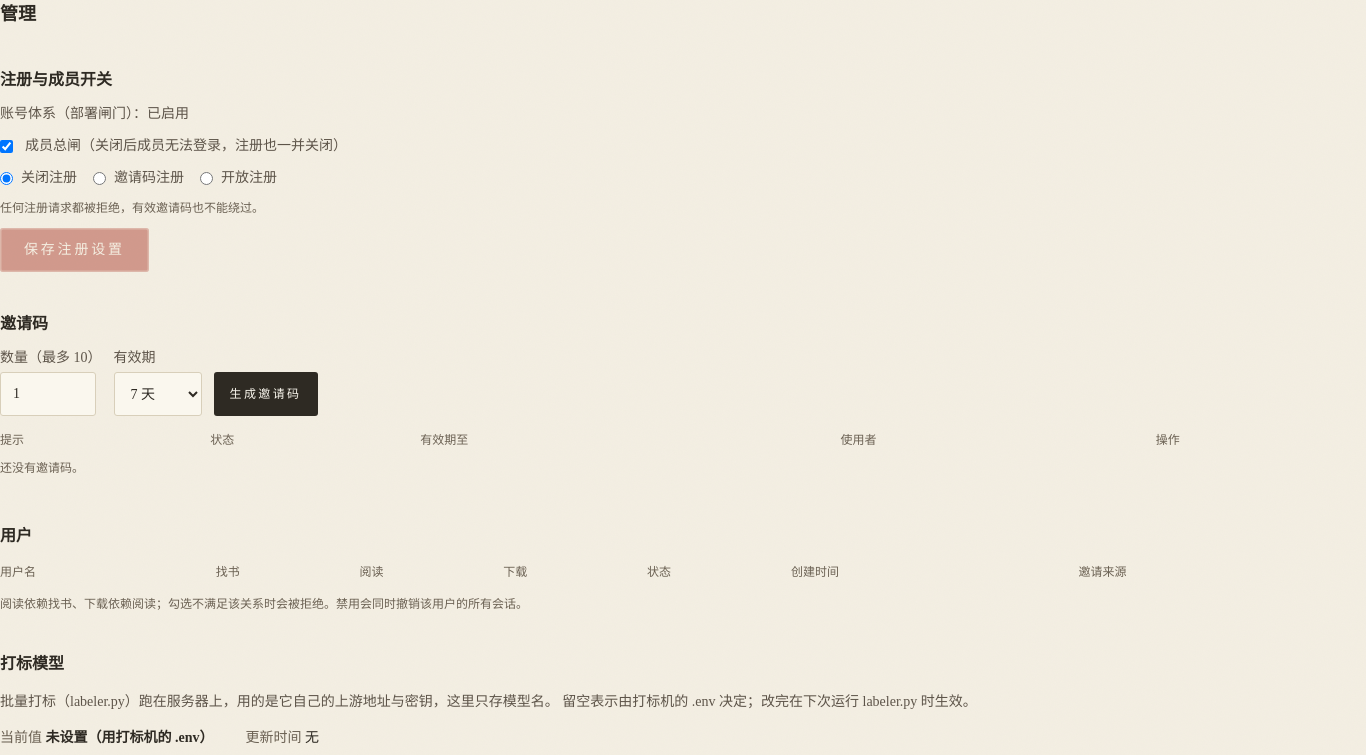
Test case: 注册设置草稿与保存快照 › 保存失败保留后续草稿和旧基准，允许再次提交
Click the radio button labelled "邀请码注册" at (100, 178), box [93, 172, 106, 184]
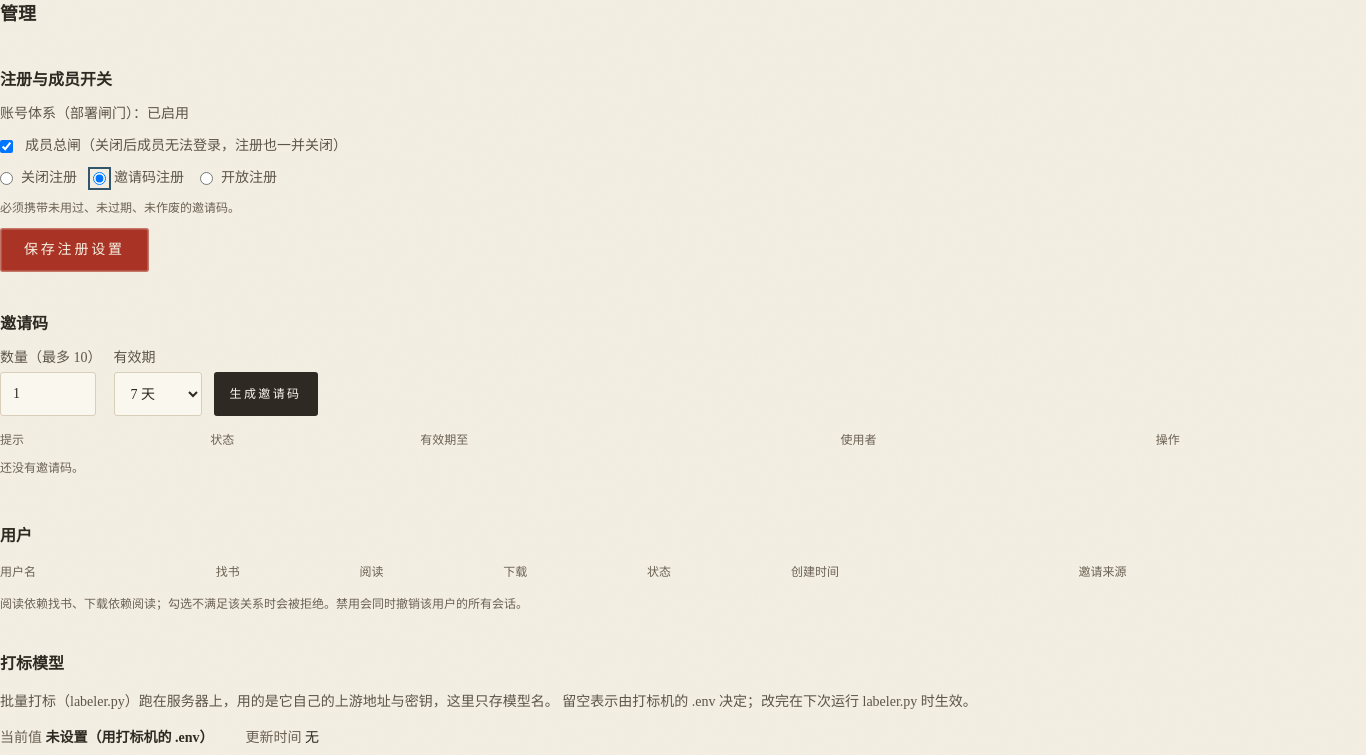
Click the button "保存注册设置" at (74, 250), box [0, 228, 149, 272]
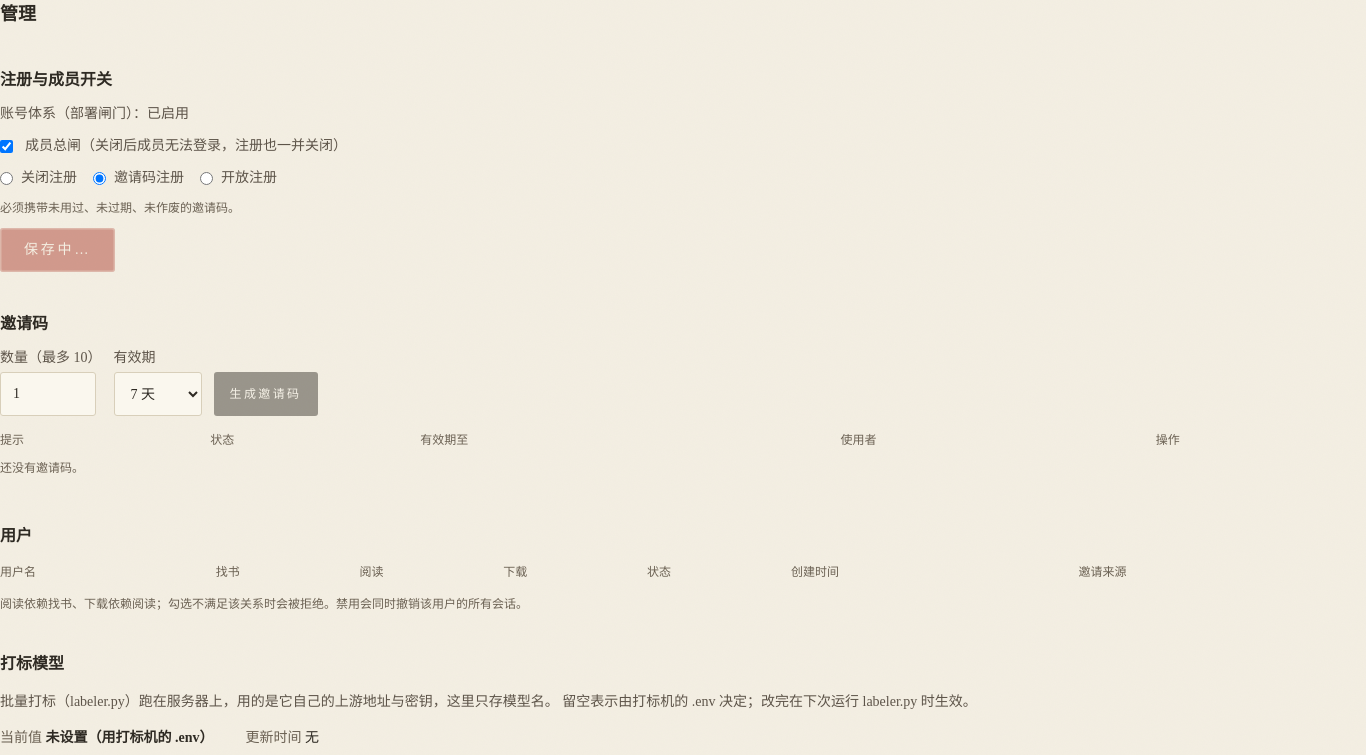
Click the radio button labelled "开放注册" at (206, 178), box [200, 172, 213, 184]
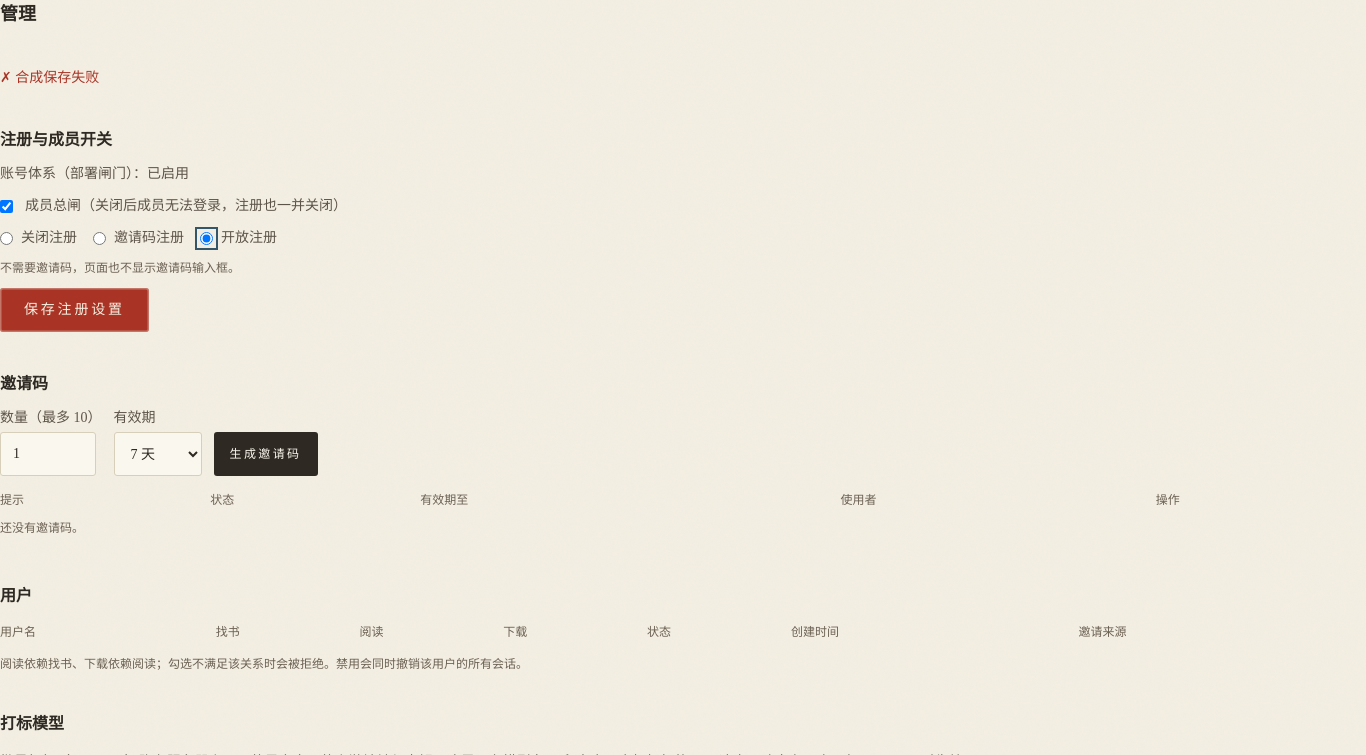
Check: the radio button labelled "开放注册" is checked, box [200, 232, 213, 244]
Check: the message shows "合成保存失败", box [15, 70, 99, 85]
Check: the button "保存注册设置" is enabled
Click the button "保存注册设置" at (74, 310), box [0, 288, 149, 332]
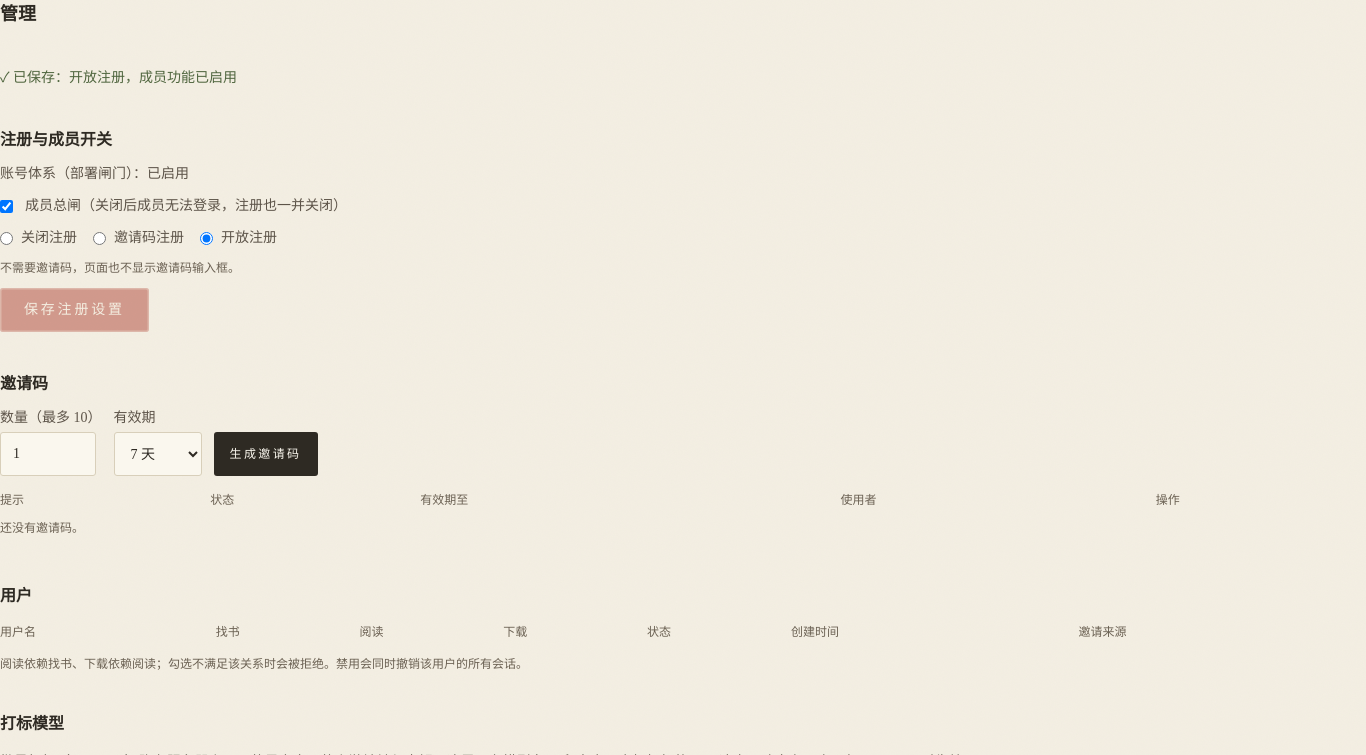
Check: the button "保存注册设置" is disabled, box [0, 288, 149, 332]
